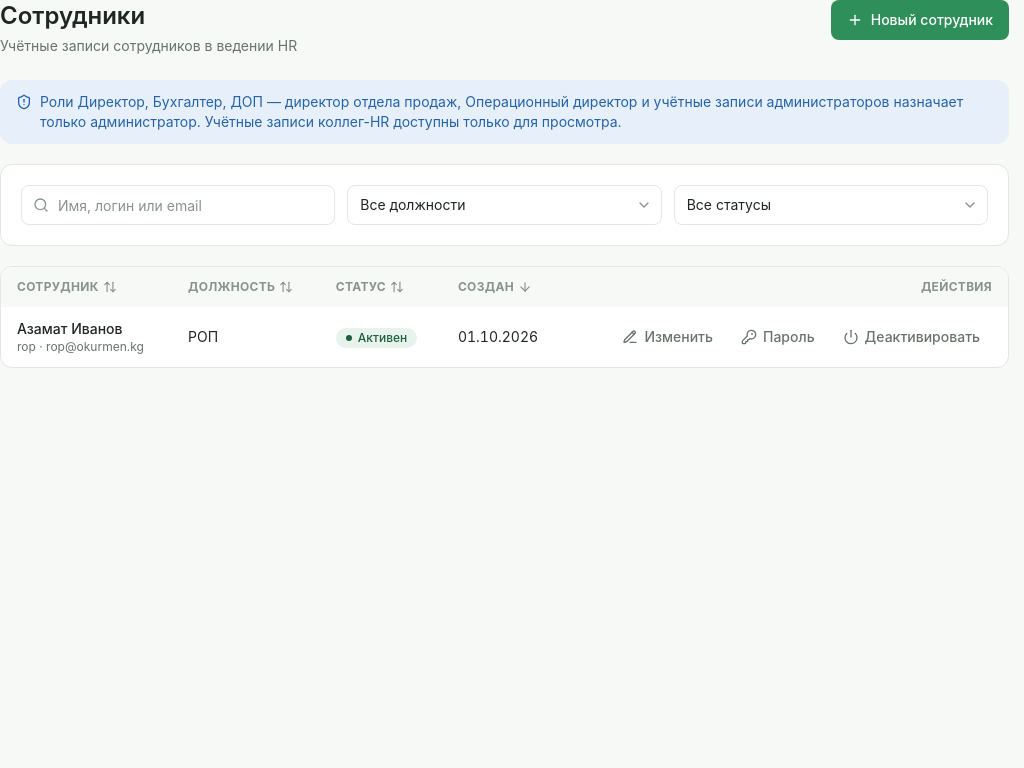
Test case: раздел «Сотрудники» HR › показывает отказ сервера
Check: the link "Азамат Иванов" is shown, box [17,320,122,337]
Click the button with aria-label "Пароль Азамат Иванов" at {"x": 778, "y": 337}, box [729,321,827,353]
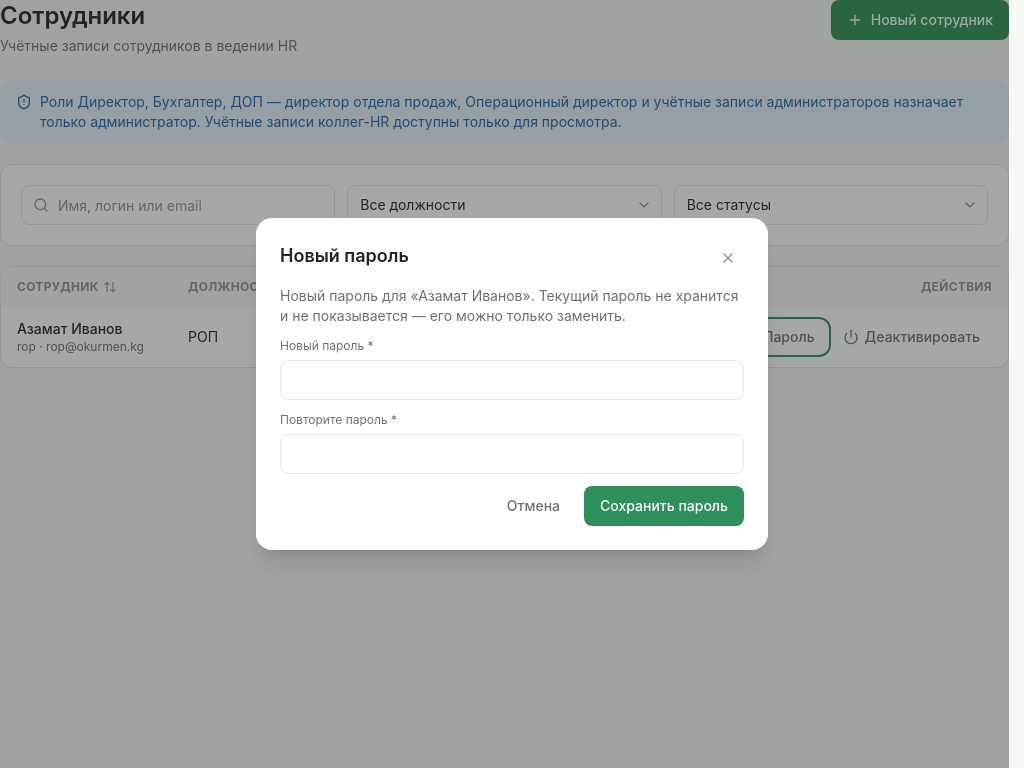
Type "An0therStr0ng!" into the password field labelled "Новый пароль *" at {"x": 512, "y": 380}, box [280,360,744,400]
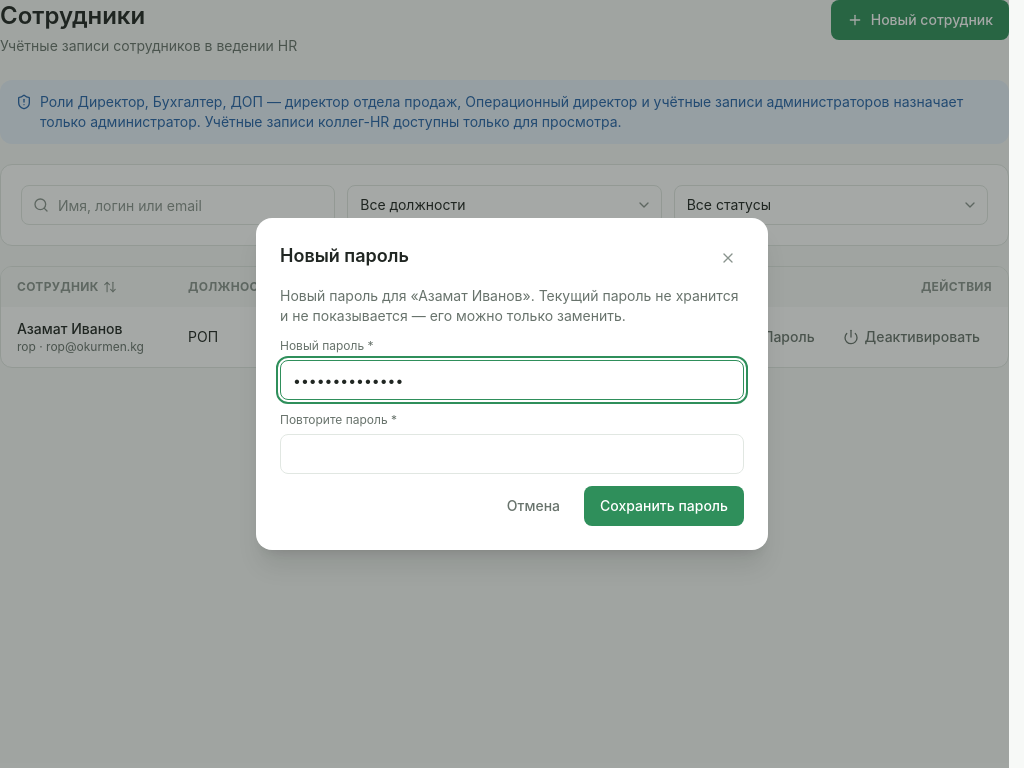
Type "An0therStr0ng!" into the password field labelled "Повторите пароль *" at {"x": 512, "y": 454}, box [280,434,744,474]
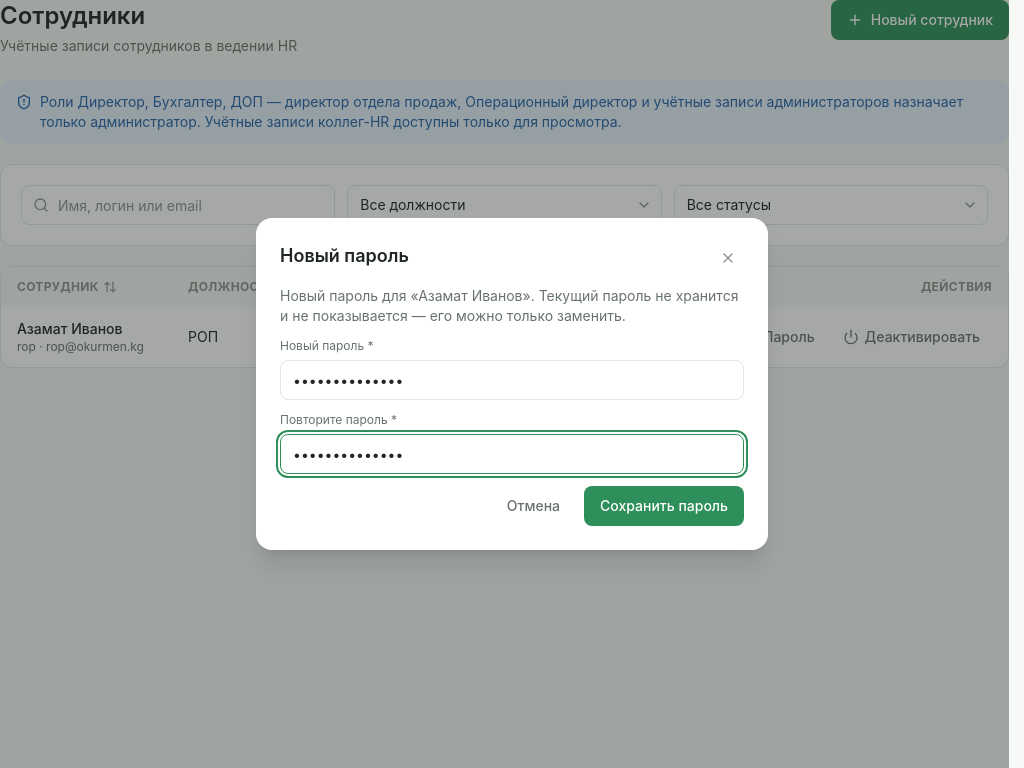
Click the button "Сохранить пароль" at {"x": 664, "y": 506}, box [584,486,744,526]
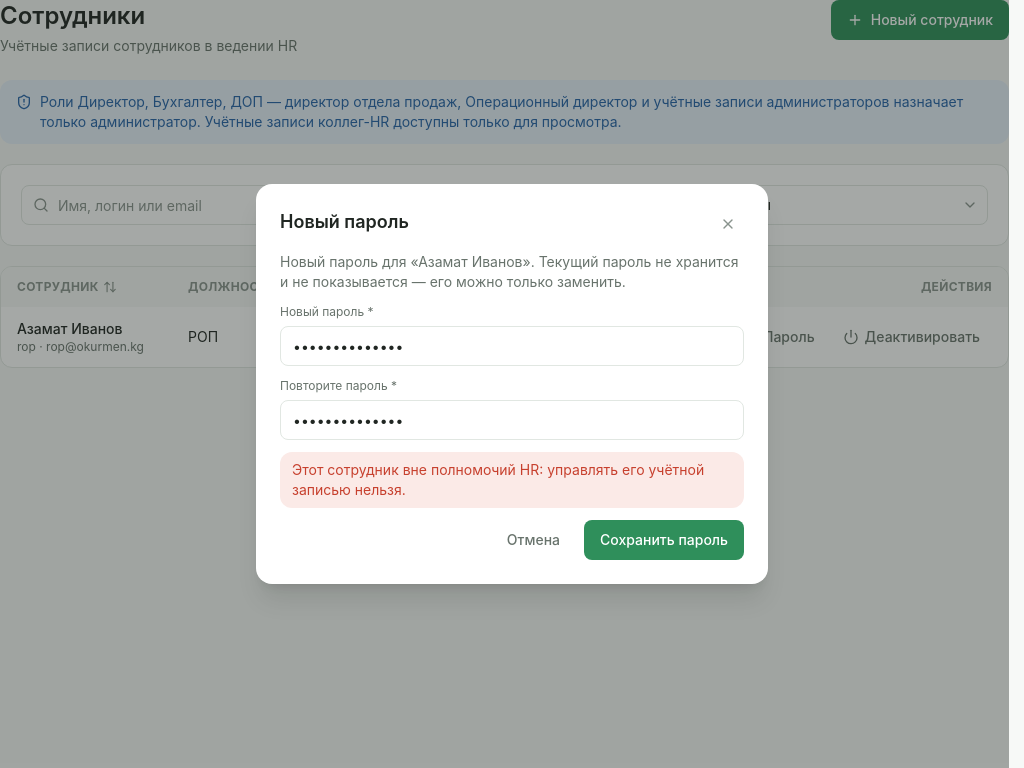
Check: the message shows "вне полномочий HR", box [292,461,704,498]
